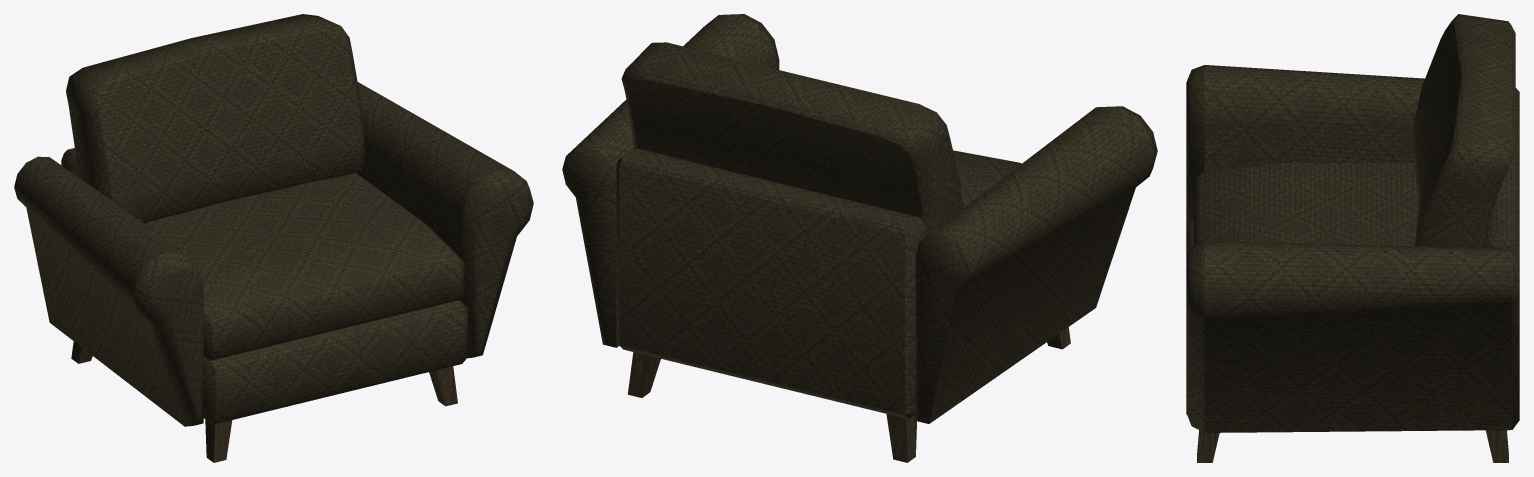
Rendered from armchair_1_1.glb.
The picture shows the model from 3 angles, left to right: view 1: azimuth 30°, elevation 25°; view 2: azimuth 150°, elevation 25°; view 3: azimuth 270°, elevation 25°; orthographic projection. The views are drawn at different scales.
Visible parts, largest first — view 1: armchair_1_1; view 2: armchair_1_1; view 3: armchair_1_1.
Part boxes in pixels (box(x1,y1,x2,y2)): armchair_1_1: box(14, 14, 533, 462); armchair_1_1: box(562, 14, 1157, 462); armchair_1_1: box(1186, 14, 1519, 462).
Bounding box in the file's own units: 1.49 × 1.07 × 0.99.
2 materials, 2 textured.
